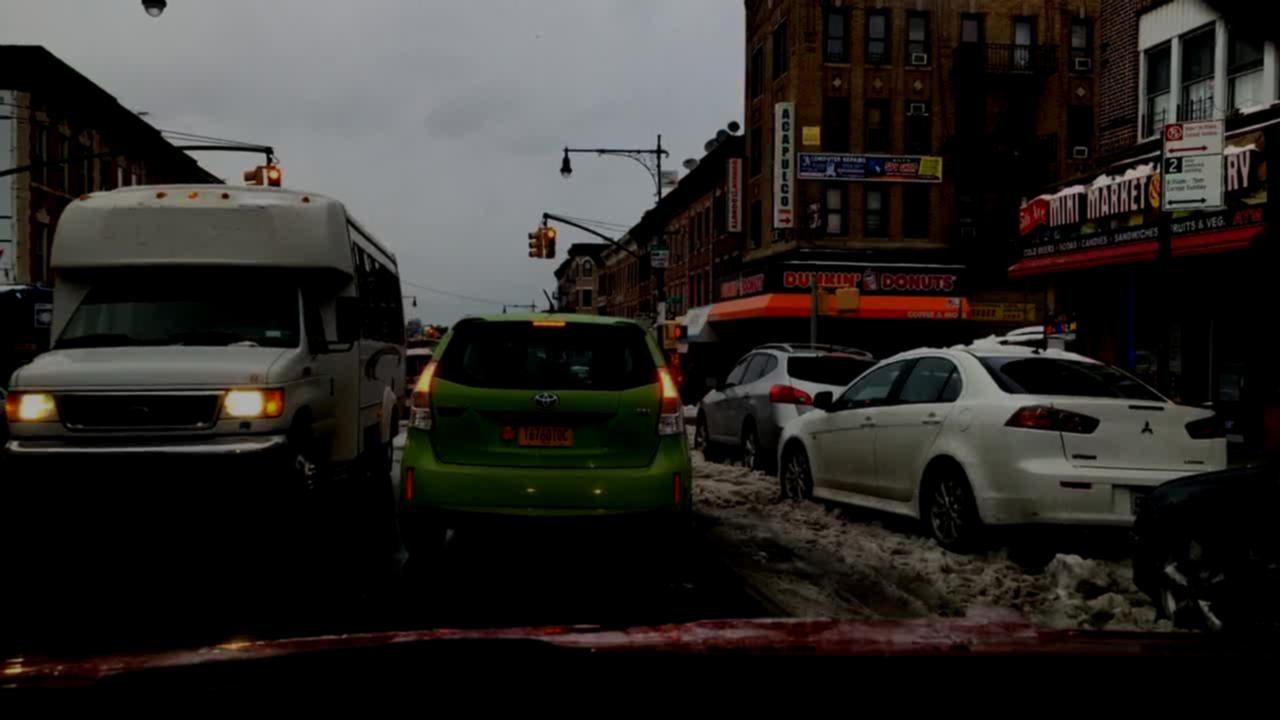Mitsubishi: (1135, 415, 1161, 440)
Toyota: (529, 388, 562, 414)
